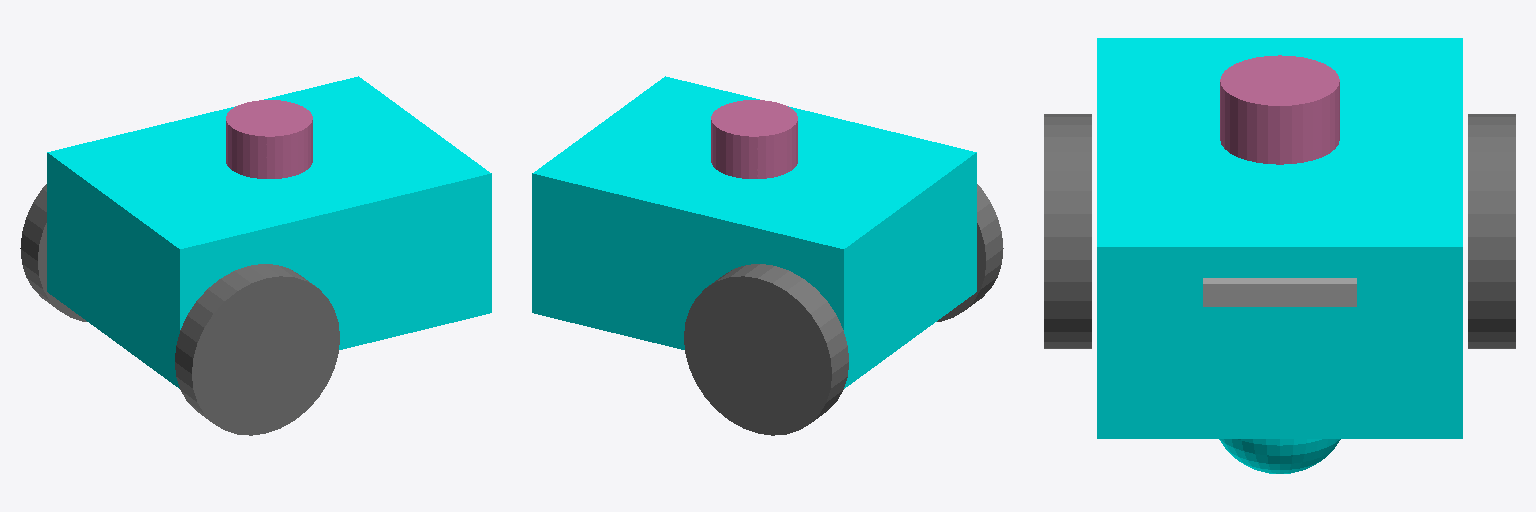
URDF robot description (sam_bot):
<?xml version="1.0" ?>

<!-- =================================================================================== -->

<!-- |    This document was autogenerated by xacro from basic_mobile_bot.urdf.xacro    | -->

<!-- |    EDITING THIS FILE BY HAND IS NOT RECOMMENDED                                 | -->

<!-- =================================================================================== -->

<robot name="sam_bot">

  <!-- Robot Base -->

  <link name="base_link">

    <visual>

      <geometry>

        <box size="0.42 0.31 0.18"/>

      </geometry>

      <material name="Cyan">

        <color rgba="0 1.0 1.0 1.0"/>

      </material>

    </visual>

    <collision>

      <geometry>

        <box size="0.42 0.31 0.18"/>

      </geometry>

    </collision>

    <inertial>

      <origin rpy="1.5707963267948966 0 1.5707963267948966" xyz="0 0 0"/>

      <mass value="15"/>

      <inertia ixx="0.261" ixy="0.0" ixz="0.0" iyy="0.34062499999999996" iyz="0.0" izz="0.16062500000000002"/>

    </inertial>

  </link>

  <!-- Robot Footprint -->

  <link name="base_footprint">

    <inertial>

      <origin rpy="1.5707963267948966 0 1.5707963267948966" xyz="0 0 0"/>

      <mass value="0"/>

      <inertia ixx="0.0" ixy="0.0" ixz="0.0" iyy="0.0" iyz="0.0" izz="0.0"/>

    </inertial>

  </link>

  <joint name="base_joint" type="fixed">

    <parent link="base_link"/>

    <child link="base_footprint"/>

    <origin rpy="0 0 0" xyz="0.0 0.0 -0.15000000000000002"/>

  </joint>

  <link name="drivewhl_l_link">

    <visual>

      <origin rpy="1.5707963267948966 0 0" xyz="0 0 0"/>

      <geometry>

        <cylinder length="0.04" radius="0.1"/>

      </geometry>

      <material name="Gray">

        <color rgba="0.5 0.5 0.5 1.0"/>

      </material>

    </visual>

    <collision>

      <origin rpy="1.5707963267948966 0 0" xyz="0 0 0"/>

      <geometry>

        <cylinder length="0.04" radius="0.1"/>

      </geometry>

    </collision>

    <inertial>

      <origin rpy="1.5707963267948966 0 0" xyz="0 0 0"/>

      <mass value="0.5"/>

      <inertia ixx="0.0013166666666666667" ixy="0" ixz="0" iyy="0.0013166666666666667" iyz="0" izz="0.0025000000000000005"/>

    </inertial>

  </link>

  <joint name="drivewhl_l_joint" type="continuous">

    <parent link="base_link"/>

    <child link="drivewhl_l_link"/>

    <origin rpy="0 0 0" xyz="-0.12 0.18 -0.05"/>

    <axis xyz="0 1 0"/>

  </joint>

  <link name="drivewhl_r_link">

    <visual>

      <origin rpy="1.5707963267948966 0 0" xyz="0 0 0"/>

      <geometry>

        <cylinder length="0.04" radius="0.1"/>

      </geometry>

      <material name="Gray">

        <color rgba="0.5 0.5 0.5 1.0"/>

      </material>

    </visual>

    <collision>

      <origin rpy="1.5707963267948966 0 0" xyz="0 0 0"/>

      <geometry>

        <cylinder length="0.04" radius="0.1"/>

      </geometry>

    </collision>

    <inertial>

      <origin rpy="1.5707963267948966 0 0" xyz="0 0 0"/>

      <mass value="0.5"/>

      <inertia ixx="0.0013166666666666667" ixy="0" ixz="0" iyy="0.0013166666666666667" iyz="0" izz="0.0025000000000000005"/>

    </inertial>

  </link>

  <joint name="drivewhl_r_joint" type="continuous">

    <parent link="base_link"/>

    <child link="drivewhl_r_link"/>

    <origin rpy="0 0 0" xyz="-0.12 -0.18 -0.05"/>

    <axis xyz="0 1 0"/>

  </joint>

  <link name="front_caster">

    <visual>

      <geometry>

        <sphere radius="0.060000000000000026"/>

      </geometry>

      <material name="Cyan">

        <color rgba="0 1.0 1.0 1.0"/>

      </material>

    </visual>

    <collision>

      <origin rpy="0 0 0" xyz="0 0 0"/>

      <geometry>

        <sphere radius="0.060000000000000026"/>

      </geometry>

    </collision>

    <inertial>

      <mass value="0.5"/>

      <inertia ixx="0.0007200000000000006" ixy="0.0" ixz="0.0" iyy="0.0007200000000000006" iyz="0.0" izz="0.0007200000000000006"/>

    </inertial>

  </link>

  <joint name="caster_joint" type="fixed">

    <parent link="base_link"/>

    <child link="front_caster"/>

    <origin rpy="0 0 0" xyz="0.14 0.0 -0.09"/>

  </joint>

  <link name="imu_link">

    <visual>

      <geometry>

        <box size="0.1 0.1 0.1"/>

      </geometry>

    </visual>

    <collision>

      <geometry>

        <box size="0.1 0.1 0.1"/>

      </geometry>

    </collision>

    <inertial>

      <origin rpy="1.5707963267948966 0 1.5707963267948966" xyz="0 0 0"/>

      <mass value="0.1"/>

      <inertia ixx="0.0001666666666666667" ixy="0.0" ixz="0.0" iyy="0.0001666666666666667" iyz="0.0" izz="0.0001666666666666667"/>

    </inertial>

  </link>

  <joint name="imu_joint" type="fixed">

    <parent link="base_link"/>

    <child link="imu_link"/>

    <origin xyz="0 0 0.01"/>

  </joint>

  <gazebo reference="imu_link">

    <sensor name="imu_sensor" type="imu">

      <plugin filename="libgazebo_ros_imu_sensor.so" name="imu_plugin">

        <ros>

          <namespace>/demo</namespace>

          <remapping>~/out:=imu</remapping>

        </ros>

        <initial_orientation_as_reference>false</initial_orientation_as_reference>

      </plugin>

      <always_on>true</always_on>

      <update_rate>100</update_rate>

      <visualize>true</visualize>

      <imu>

        <angular_velocity>

          <x>

            <noise type="gaussian">

              <mean>0.0</mean>

              <stddev>2e-4</stddev>

              <bias_mean>0.0000075</bias_mean>

              <bias_stddev>0.0000008</bias_stddev>

            </noise>

          </x>

          <y>

            <noise type="gaussian">

              <mean>0.0</mean>

              <stddev>2e-4</stddev>

              <bias_mean>0.0000075</bias_mean>

              <bias_stddev>0.0000008</bias_stddev>

            </noise>

          </y>

          <z>

            <noise type="gaussian">

              <mean>0.0</mean>

              <stddev>2e-4</stddev>

              <bias_mean>0.0000075</bias_mean>

              <bias_stddev>0.0000008</bias_stddev>

            </noise>

          </z>

        </angular_velocity>

        <linear_acceleration>

          <x>

            <noise type="gaussian">

              <mean>0.0</mean>

              <stddev>1.7e-2</stddev>

              <bias_mean>0.1</bias_mean>

              <bias_stddev>0.001</bias_stddev>

            </noise>

          </x>

          <y>

            <noise type="gaussian">

              <mean>0.0</mean>

              <stddev>1.7e-2</stddev>

              <bias_mean>0.1</bias_mean>

              <bias_stddev>0.001</bias_stddev>

            </noise>

          </y>

          <z>

            <noise type="gaussian">

              <mean>0.0</mean>

              <stddev>1.7e-2</stddev>

              <bias_mean>0.1</bias_mean>

              <bias_stddev>0.001</bias_stddev>

            </noise>

          </z>

        </linear_acceleration>

      </imu>

    </sensor>

  </gazebo>

  <gazebo>

    <plugin filename="libgazebo_ros_diff_drive.so" name="diff_drive">

      <ros>

        <namespace>/demo</namespace>

      </ros>

      <!-- wheels -->

      <left_joint>drivewhl_l_joint</left_joint>

      <right_joint>drivewhl_r_joint</right_joint>

      <!-- kinematics -->

      <wheel_separation>0.4</wheel_separation>

      <wheel_diameter>0.2</wheel_diameter>

      <!-- limits -->

      <max_wheel_torque>20</max_wheel_torque>

      <max_wheel_acceleration>1.0</max_wheel_acceleration>

      <!-- output -->

      <publish_odom>true</publish_odom>

      <publish_odom_tf>false</publish_odom_tf>

      <publish_wheel_tf>true</publish_wheel_tf>

      <odometry_frame>odom</odometry_frame>

      <robot_base_frame>base_link</robot_base_frame>

    </plugin>

  </gazebo>

  <link name="lidar_link">

    <inertial>

      <origin rpy="0 0 0" xyz="0 0 0"/>

      <mass value="0.125"/>

      <inertia ixx="0.001" ixy="0" ixz="0" iyy="0.001" iyz="0" izz="0.001"/>

    </inertial>

    <collision>

      <origin rpy="0 0 0" xyz="0 0 0"/>

      <geometry>

        <cylinder length="0.055" radius="0.0508"/>

      </geometry>

    </collision>

    <visual>

      <origin rpy="0 0 0" xyz="0 0 0"/>

      <geometry>

        <cylinder length="0.055" radius="0.0508"/>

      </geometry>

    </visual>

  </link>

  <joint name="lidar_joint" type="fixed">

    <parent link="base_link"/>

    <child link="lidar_link"/>

    <origin rpy="0 0 0" xyz="0 0 0.12"/>

  </joint>

  <gazebo reference="lidar_link">

    <sensor name="lidar" type="ray">

      <always_on>true</always_on>

      <visualize>true</visualize>

      <update_rate>5</update_rate>

      <ray>

        <scan>

          <horizontal>

            <samples>360</samples>

            <resolution>1.000000</resolution>

            <min_angle>0.000000</min_angle>

            <max_angle>6.280000</max_angle>

          </horizontal>

        </scan>

        <range>

          <min>0.120000</min>

          <max>3.5</max>

          <resolution>0.015000</resolution>

        </range>

        <noise>

          <type>gaussian</type>

          <mean>0.0</mean>

          <stddev>0.01</stddev>

        </noise>

      </ray>

      <plugin filename="libgazebo_ros_ray_sensor.so" name="scan">

        <ros>

          <remapping>~/out:=scan</remapping>

        </ros>

        <output_type>sensor_msgs/LaserScan</output_type>

        <frame_name>lidar_link</frame_name>

      </plugin>

    </sensor>

  </gazebo>

  <link name="camera_link">

    <visual>

      <origin rpy="0 0 0" xyz="0 0 0"/>

      <geometry>

        <box size="0.015 0.130 0.022"/>

      </geometry>

    </visual>

    <collision>

      <origin rpy="0 0 0" xyz="0 0 0"/>

      <geometry>

        <box size="0.015 0.130 0.022"/>

      </geometry>

    </collision>

    <inertial>

      <origin rpy="0 0 0" xyz="0 0 0"/>

      <mass value="0.035"/>

      <inertia ixx="0.001" ixy="0" ixz="0" iyy="0.001" iyz="0" izz="0.001"/>

    </inertial>

  </link>

  <joint name="camera_joint" type="fixed">

    <parent link="base_link"/>

    <child link="camera_link"/>

    <origin rpy="0 0 0" xyz="0.215 0 0.05"/>

  </joint>

  <link name="camera_depth_frame"/>

  <joint name="camera_depth_joint" type="fixed">

    <origin rpy="-1.5707963267948966 0 -1.5707963267948966" xyz="0 0 0"/>

    <parent link="camera_link"/>

    <child link="camera_depth_frame"/>

  </joint>

  <gazebo reference="camera_link">

    <sensor name="depth_camera" type="depth">

      <visualize>true</visualize>

      <update_rate>30.0</update_rate>

      <camera name="camera">

        <horizontal_fov>1.047198</horizontal_fov>

        <image>

          <width>640</width>

          <height>480</height>

          <format>R8G8B8</format>

        </image>

        <clip>

          <near>0.05</near>

          <far>3</far>

        </clip>

      </camera>

      <plugin filename="libgazebo_ros_camera.so" name="depth_camera_controller">

        <baseline>0.2</baseline>

        <alwaysOn>true</alwaysOn>

        <updateRate>0.0</updateRate>

        <frame_name>camera_depth_frame</frame_name>

        <pointCloudCutoff>0.5</pointCloudCutoff>

        <pointCloudCutoffMax>3.0</pointCloudCutoffMax>

        <distortionK1>0</distortionK1>

        <distortionK2>0</distortionK2>

        <distortionK3>0</distortionK3>

        <distortionT1>0</distortionT1>

        <distortionT2>0</distortionT2>

        <CxPrime>0</CxPrime>

        <Cx>0</Cx>

        <Cy>0</Cy>

        <focalLength>0</focalLength>

        <hackBaseline>0</hackBaseline>

      </plugin>

    </sensor>

  </gazebo>

</robot>

--- What the picture shows (computed from the rendered views, not written in the file) ---
The picture shows the robot from 3 angles, left to right: view 1: azimuth 30°, elevation 25°; view 2: azimuth 150°, elevation 25°; view 3: azimuth 270°, elevation 25°; orthographic projection.
Model sam_bot with 9 links and 8 joints (2 continuous, 6 fixed), rooted at base_link, posed every joint at zero.
Links seen in each view (by area): view 1: base_link, drivewhl_r_link, lidar_link, drivewhl_l_link; view 2: base_link, drivewhl_l_link, lidar_link, drivewhl_r_link; view 3: base_link, lidar_link, drivewhl_l_link, drivewhl_r_link, camera_link, front_caster.
Link boxes in pixels (<box>): base_link: <box>47,76,491,388</box>; drivewhl_r_link: <box>175,264,339,435</box>; lidar_link: <box>226,100,312,178</box>; drivewhl_l_link: <box>20,184,86,321</box>; base_link: <box>532,76,976,388</box>; drivewhl_l_link: <box>684,264,848,435</box>; lidar_link: <box>711,100,797,178</box>; drivewhl_r_link: <box>937,184,1003,321</box>; base_link: <box>1097,38,1462,438</box>; lidar_link: <box>1220,55,1339,164</box>; drivewhl_l_link: <box>1468,114,1515,348</box>; drivewhl_r_link: <box>1044,114,1091,348</box>; camera_link: <box>1203,278,1356,306</box>; front_caster: <box>1219,439,1340,473</box>.
Bounding box of the posed robot: 0.4425 × 0.4 × 0.2975 m (x, y, z).
Geometry: primitives only (box / cylinder / sphere), no mesh files.
